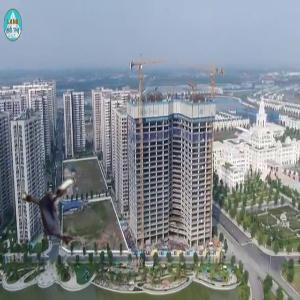drone: (13, 169, 104, 260)
